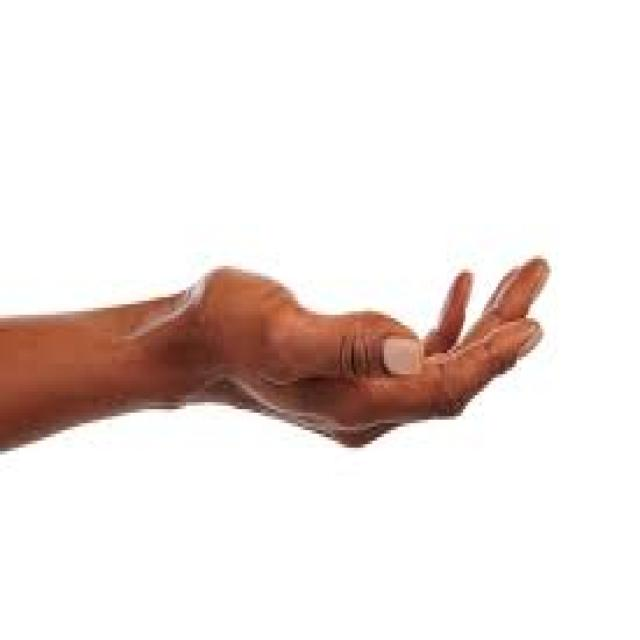hand: (146, 201, 565, 445)
